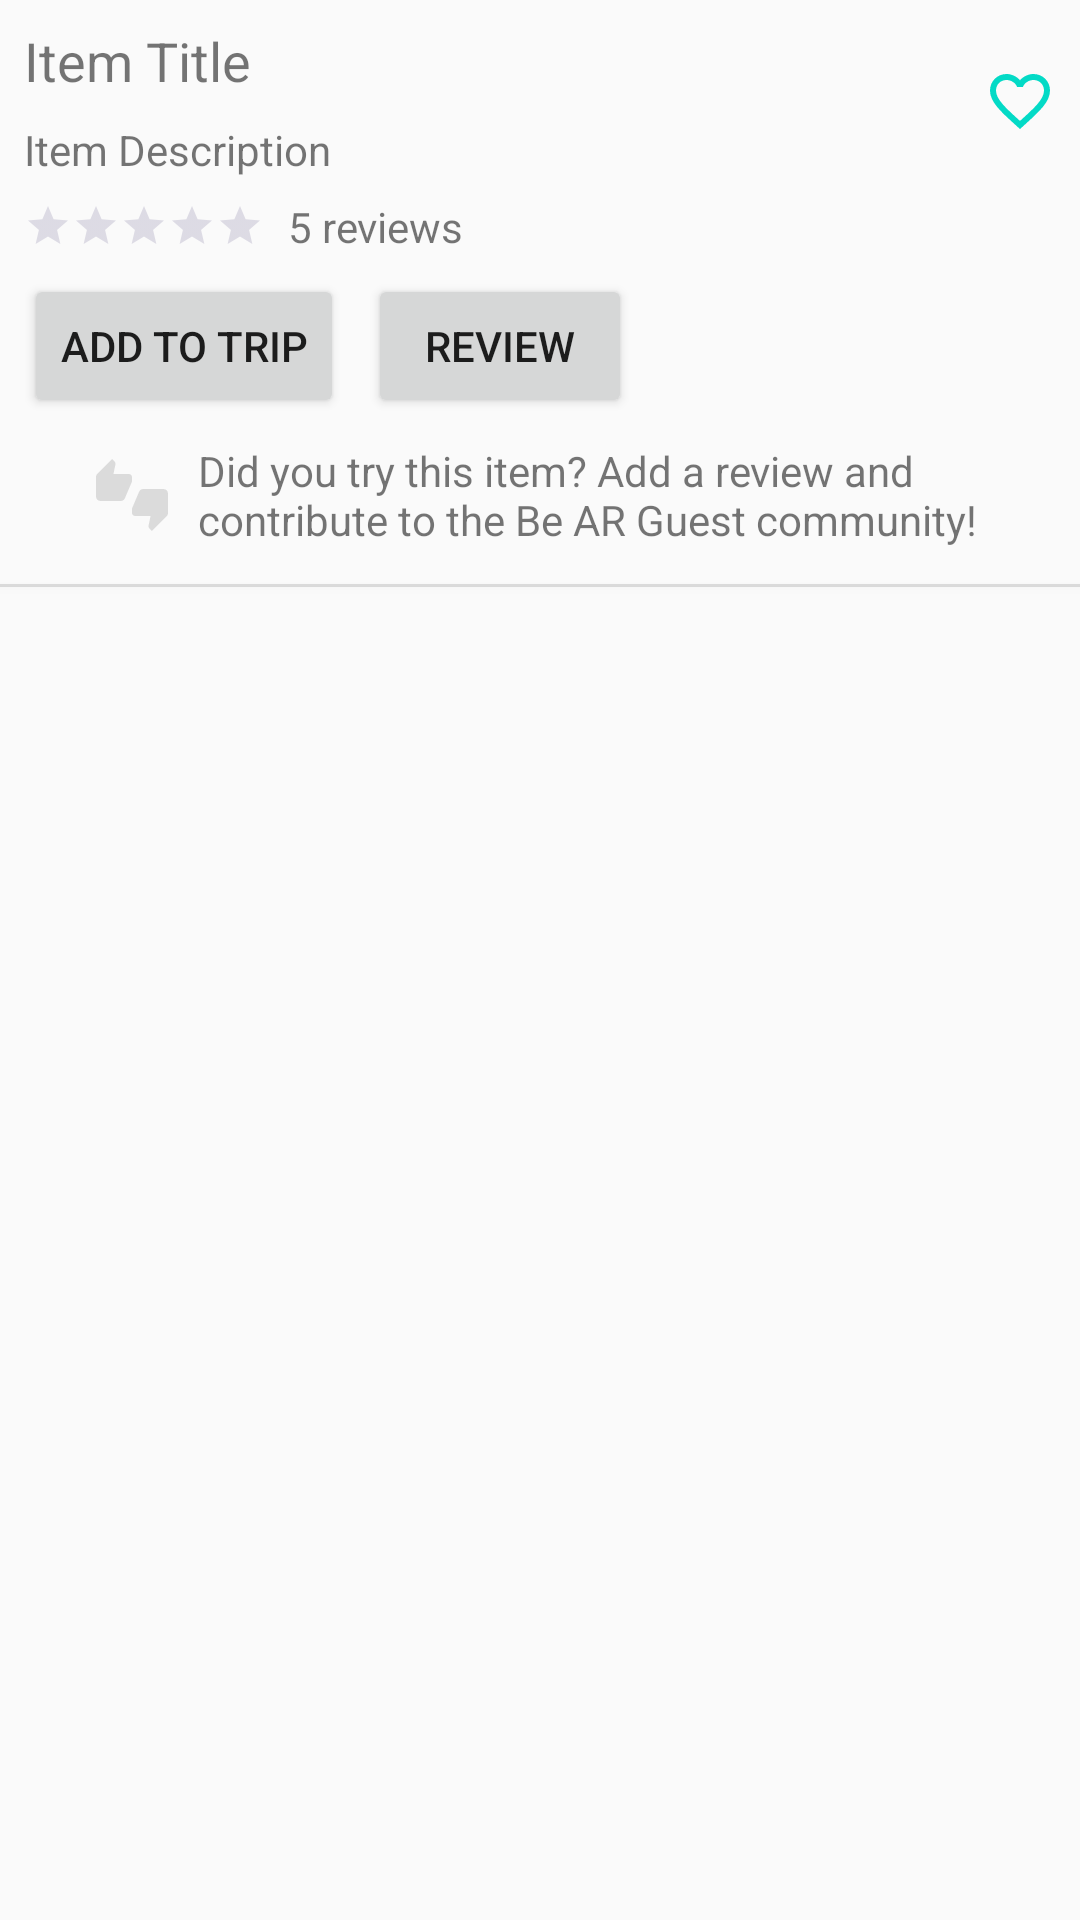

Point at icon controls on the screen. Image size 1080*1920, points as (x=x, y=y).
item view heart: (x=1020, y=101)
thumbs up down: (x=132, y=495)
